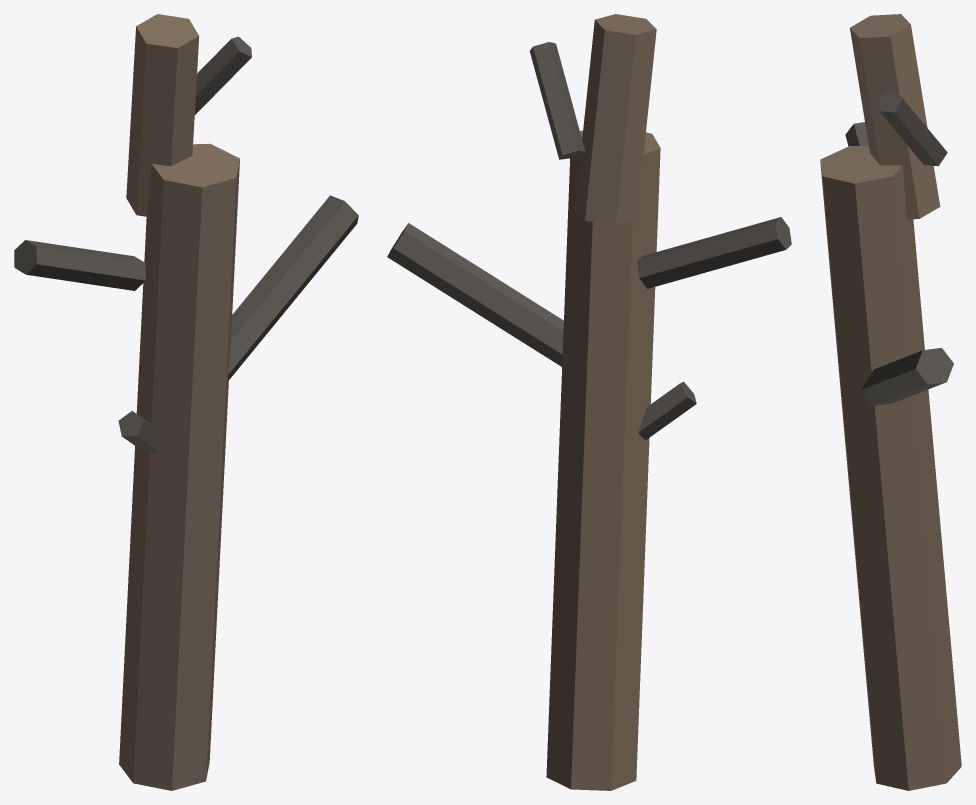
The model's file is prop_dead_tree.glb.
3 renders of one model, left to right at view 1: azimuth 30°, elevation 25°; view 2: azimuth 150°, elevation 25°; view 3: azimuth 270°, elevation 25°, orthographic. The views are drawn at different scales.
Visible parts, largest first — view 1: body_trunk, accent_limbs; view 2: body_trunk, accent_limbs; view 3: body_trunk, accent_limbs.
Boxes of the visible parts, x1,y1,x2,y2 form: body_trunk: [119, 14, 239, 790]; accent_limbs: [14, 36, 358, 454]; body_trunk: [546, 14, 660, 790]; accent_limbs: [387, 42, 791, 440]; body_trunk: [820, 14, 961, 790]; accent_limbs: [845, 89, 953, 405].
Bounding box in the file's own units: 1.46 × 2.87 × 0.4943.
